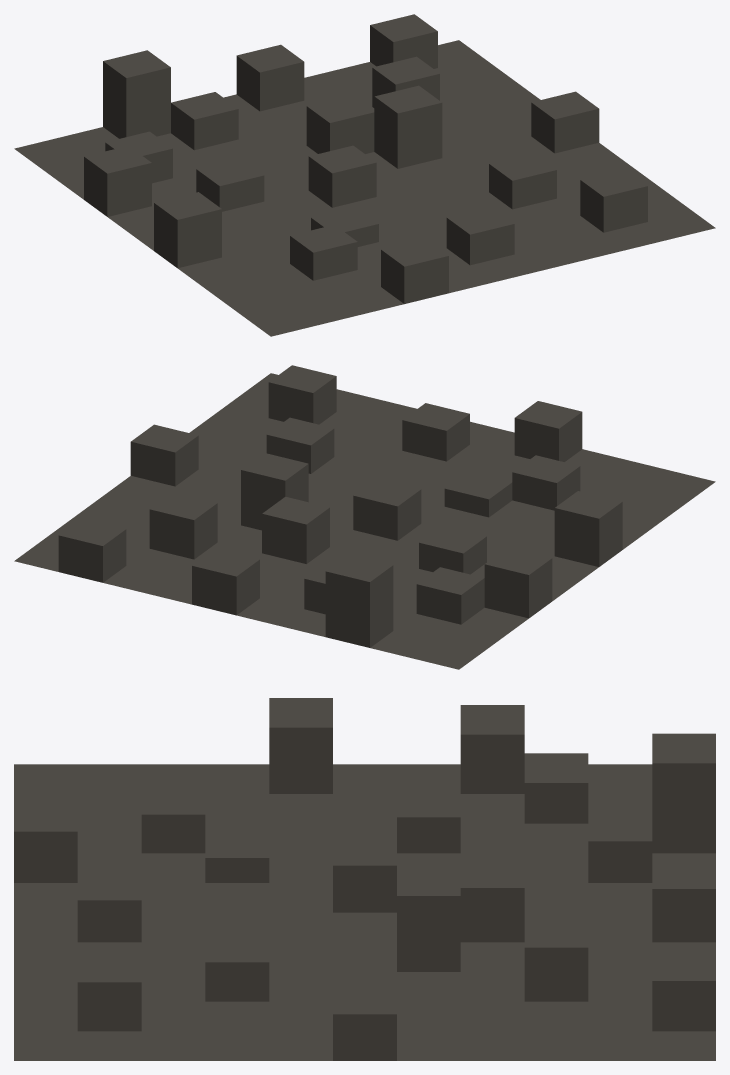
Rendered from Undermap.obj.
3 views of the same model, one above another, from view 1: azimuth 30°, elevation 25°; view 2: azimuth 150°, elevation 25°; view 3: azimuth 270°, elevation 25° (orthographic). The views are drawn at different scales.
Visible parts, largest first — view 1: 平面; view 2: 平面; view 3: 平面.
Part boxes in pixels (x1,y1,x2,y2): 平面: (14,14,715,336); 平面: (14,365,715,669); 平面: (14,698,715,1060).
Bounding box in the file's own units: 2 × 0.2829 × 2.
